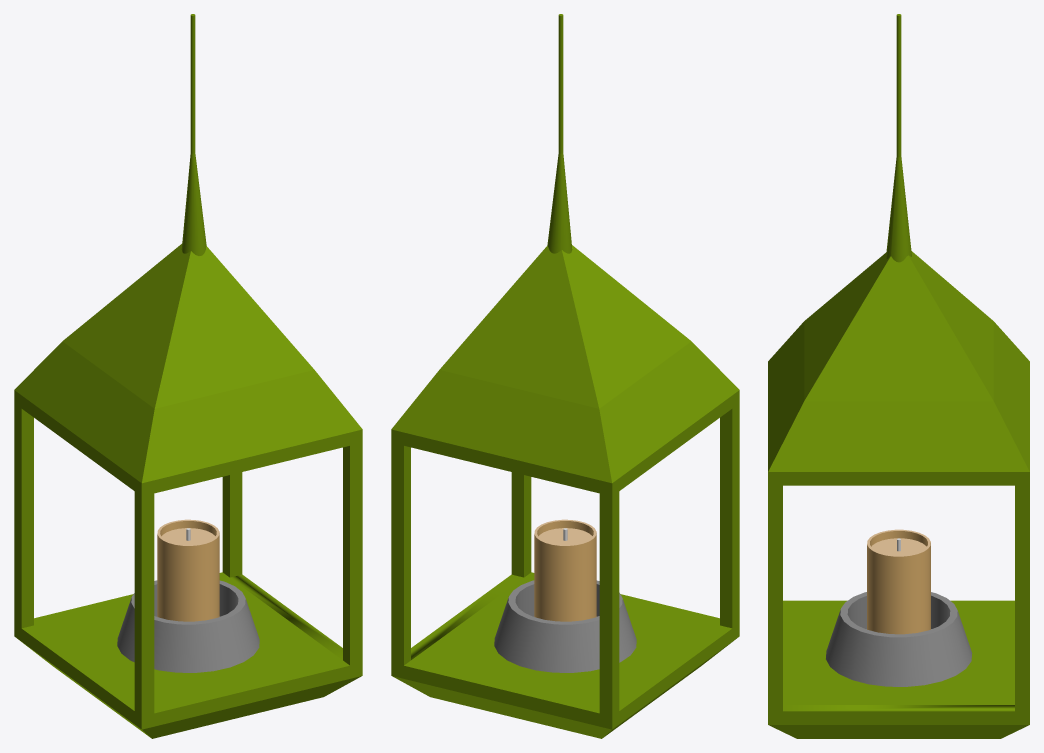
File: candle_lantern.fbx
3 views of the same model, side by side, from view 1: azimuth 30°, elevation 25°; view 2: azimuth 150°, elevation 25°; view 3: azimuth 270°, elevation 25° (orthographic). The views are drawn at different scales.
Parts seen in each view (by area): view 1: candle_lantern, candle_lantern_holder, candle, candle_lantern_holder_interior; view 2: candle_lantern, candle_lantern_holder, candle, candle_lantern_holder_interior; view 3: candle_lantern, candle_lantern_holder, candle, candle_lantern_holder_interior.
Part boxes in pixels (box(x1,y1,x2,y2)): candle_lantern: box(14, 14, 362, 738); candle_lantern_holder: box(117, 580, 259, 672); candle: box(157, 519, 219, 621); candle_lantern_holder_interior: box(154, 584, 238, 616); candle_lantern: box(391, 14, 739, 738); candle_lantern_holder: box(494, 580, 636, 672); candle: box(534, 519, 596, 621); candle_lantern_holder_interior: box(515, 584, 599, 616); candle_lantern: box(768, 14, 1029, 738); candle_lantern_holder: box(826, 592, 972, 686); candle: box(867, 529, 930, 634); candle_lantern_holder_interior: box(847, 595, 950, 629).
Bounding box in the file's own units: 0.8447 × 2.43 × 0.8447.
